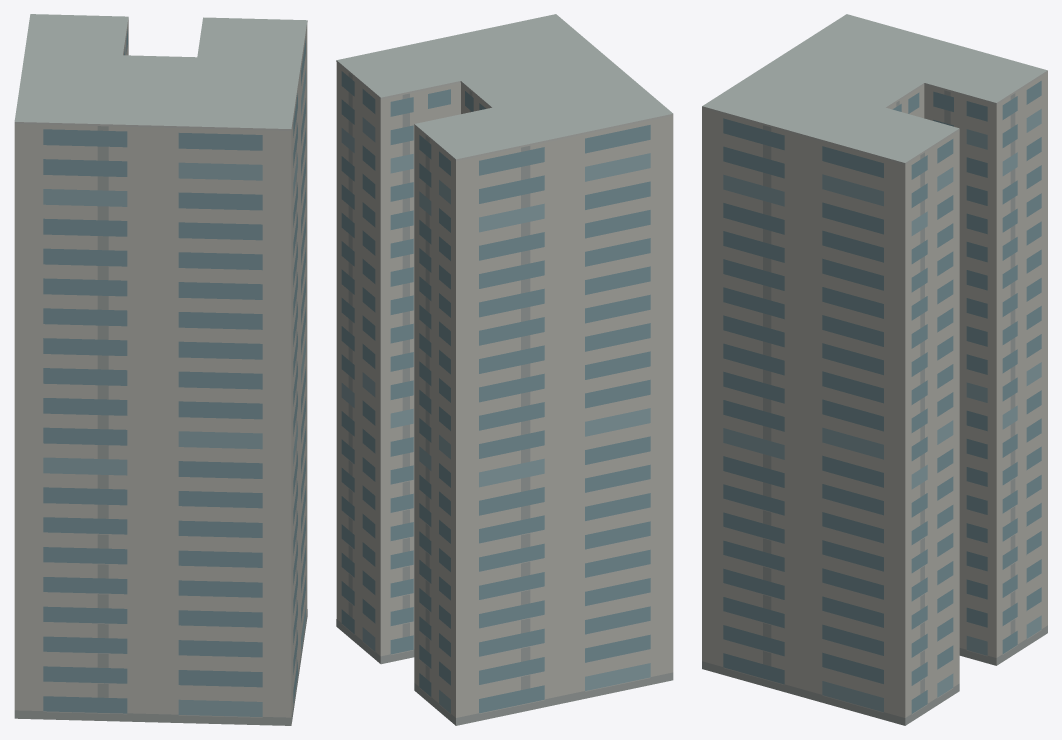
The model's file is residential-7b613bbb-2396-4ac8-9a20-085ce5f0dd93.glb.
3 renders of one model, left to right at view 1: azimuth 30°, elevation 25°; view 2: azimuth 150°, elevation 25°; view 3: azimuth 270°, elevation 25°, orthographic. The views are drawn at different scales.
Parts seen in each view (by area): view 1: residential-7b613bbb-2396-4ac8-9a20-085ce5f0dd93.tmp; view 2: residential-7b613bbb-2396-4ac8-9a20-085ce5f0dd93.tmp; view 3: residential-7b613bbb-2396-4ac8-9a20-085ce5f0dd93.tmp.
Boxes of the visible parts, x1,y1,x2,y2 form: residential-7b613bbb-2396-4ac8-9a20-085ce5f0dd93.tmp: (14,14,307,725); residential-7b613bbb-2396-4ac8-9a20-085ce5f0dd93.tmp: (336,14,673,725); residential-7b613bbb-2396-4ac8-9a20-085ce5f0dd93.tmp: (702,14,1047,725).
Bounding box in the file's own units: 41.48 × 73 × 40.64.
